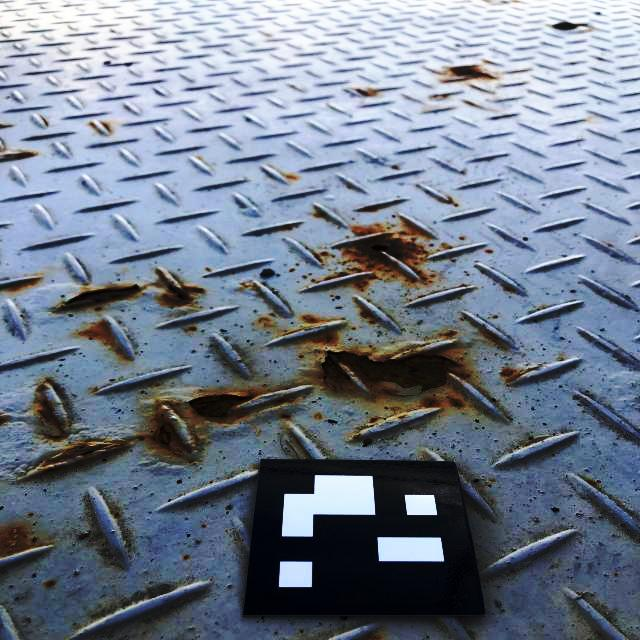Corrosion: (319, 348, 459, 396), (328, 233, 425, 279), (38, 442, 119, 467), (57, 284, 136, 309), (189, 391, 259, 419), (152, 414, 188, 452), (157, 282, 206, 307), (37, 395, 65, 433), (0, 527, 25, 554), (450, 63, 491, 77)
